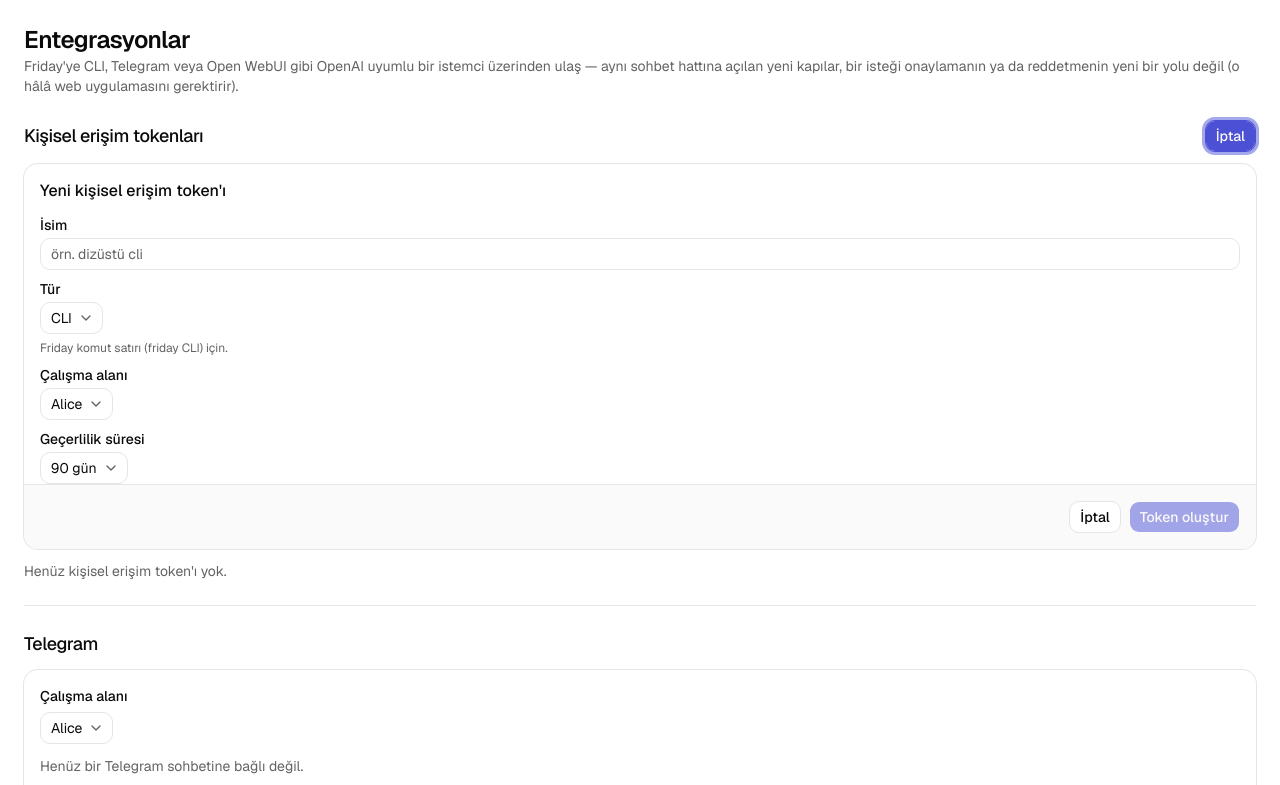
Scenario: IntegrationsView › sends the chosen expiry with the mint request
Earlier steps of the test are not shown.
Type "short" into the field labelled "İsim" at (640, 254), box [40,238,1240,270]
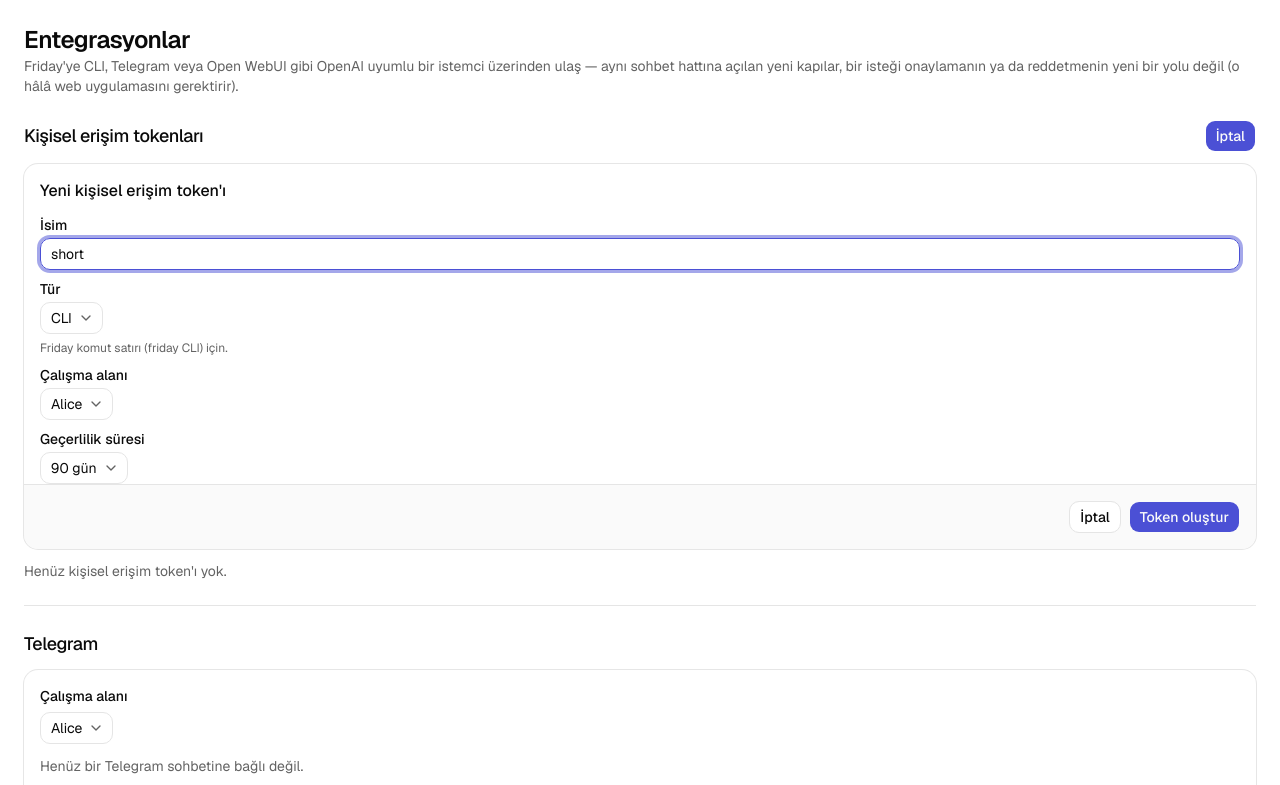
Click the dropdown named "Token çalışma alanı" at (77, 404), box [40,388,113,420]
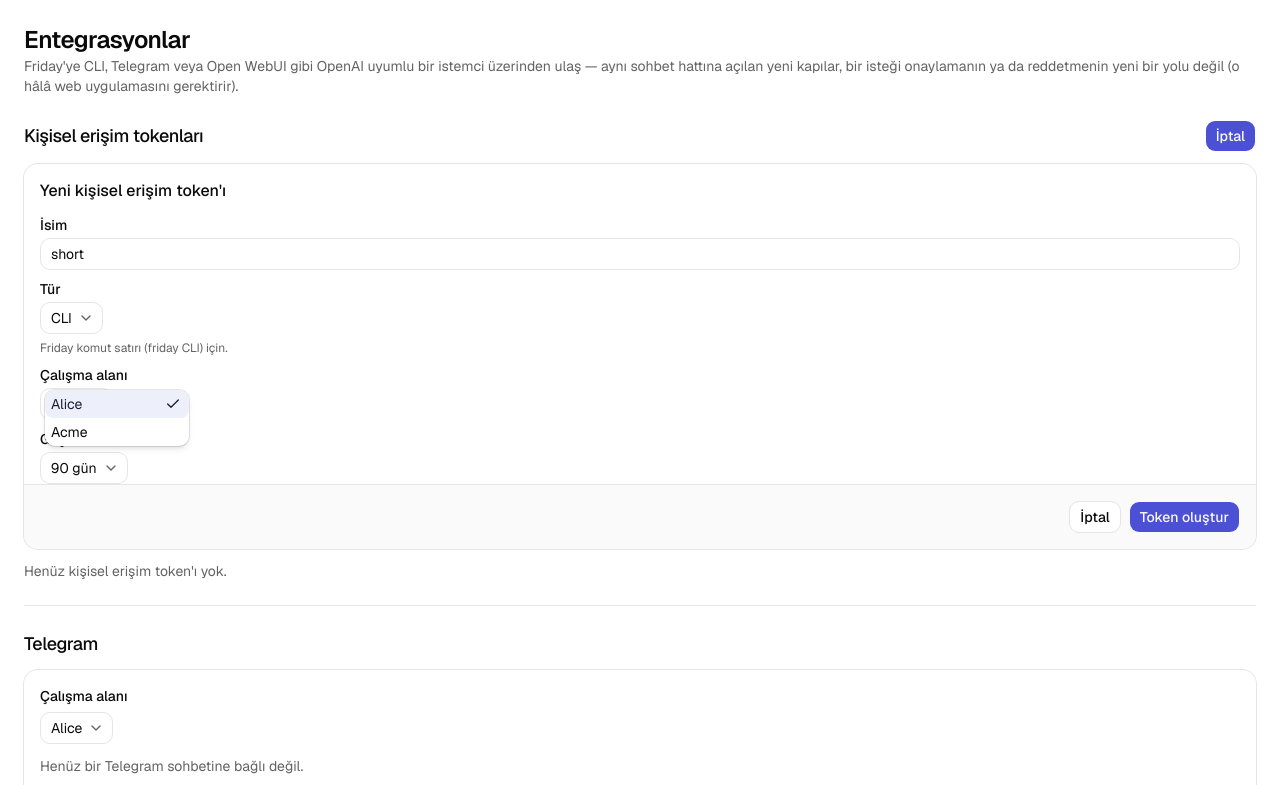
Click the option "Alice" at (117, 404), box [45,390,189,418]
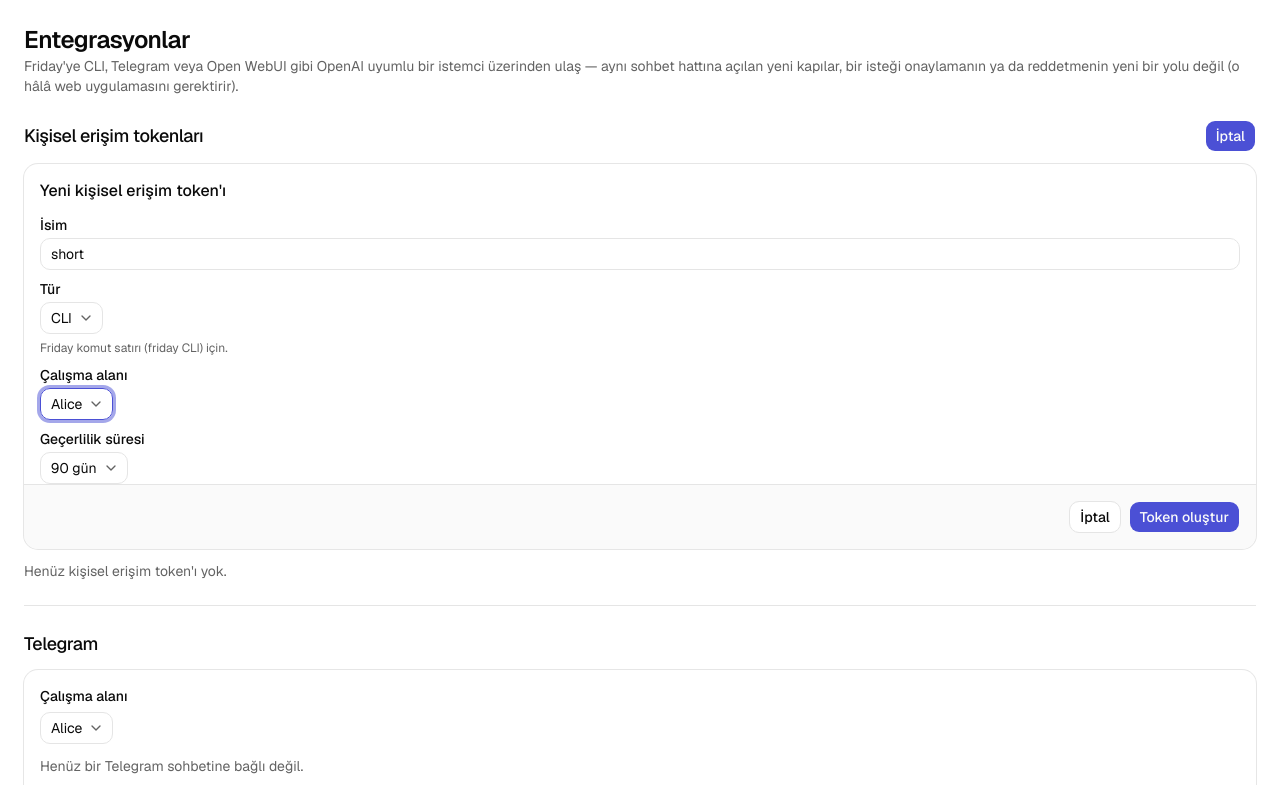
Click the dropdown named "Token geçerlilik süresi" at (84, 468), box [40,452,128,484]
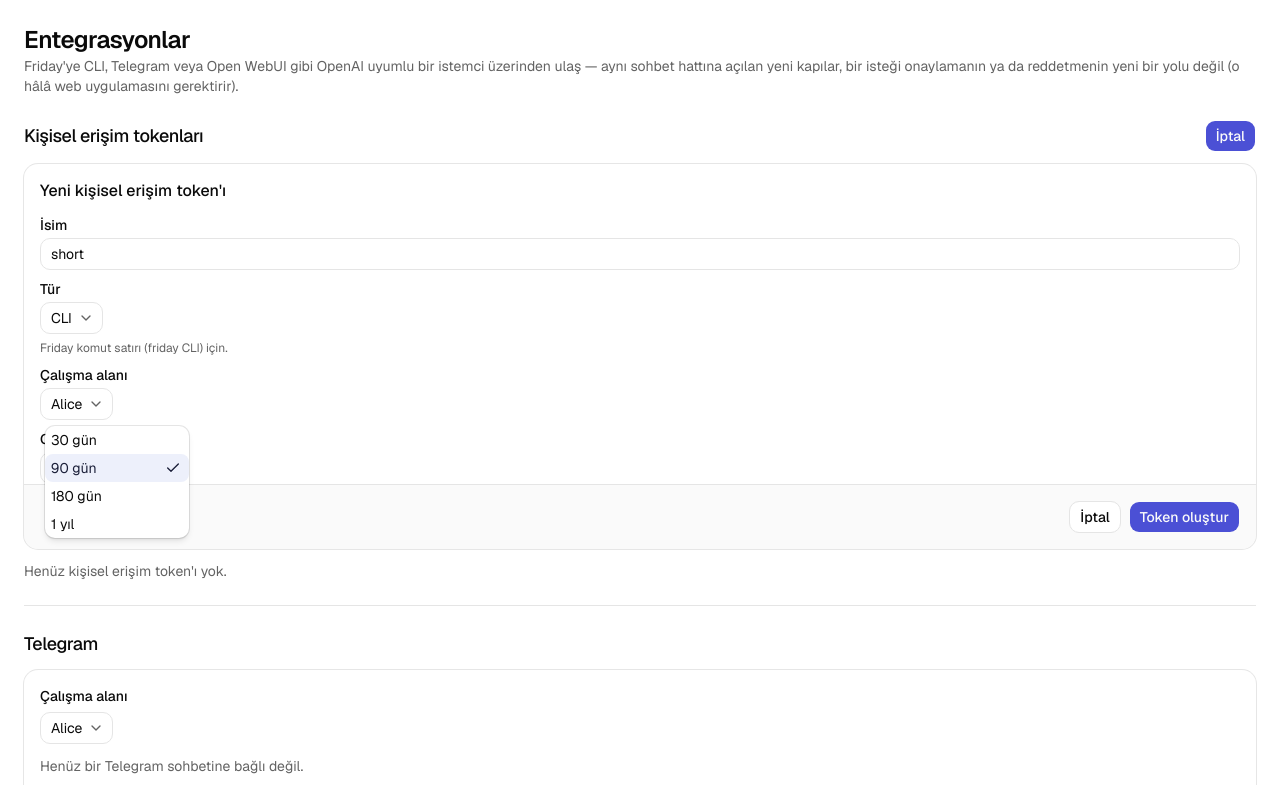
Click the option "30 gün" at (74, 440), box [51,431,97,449]
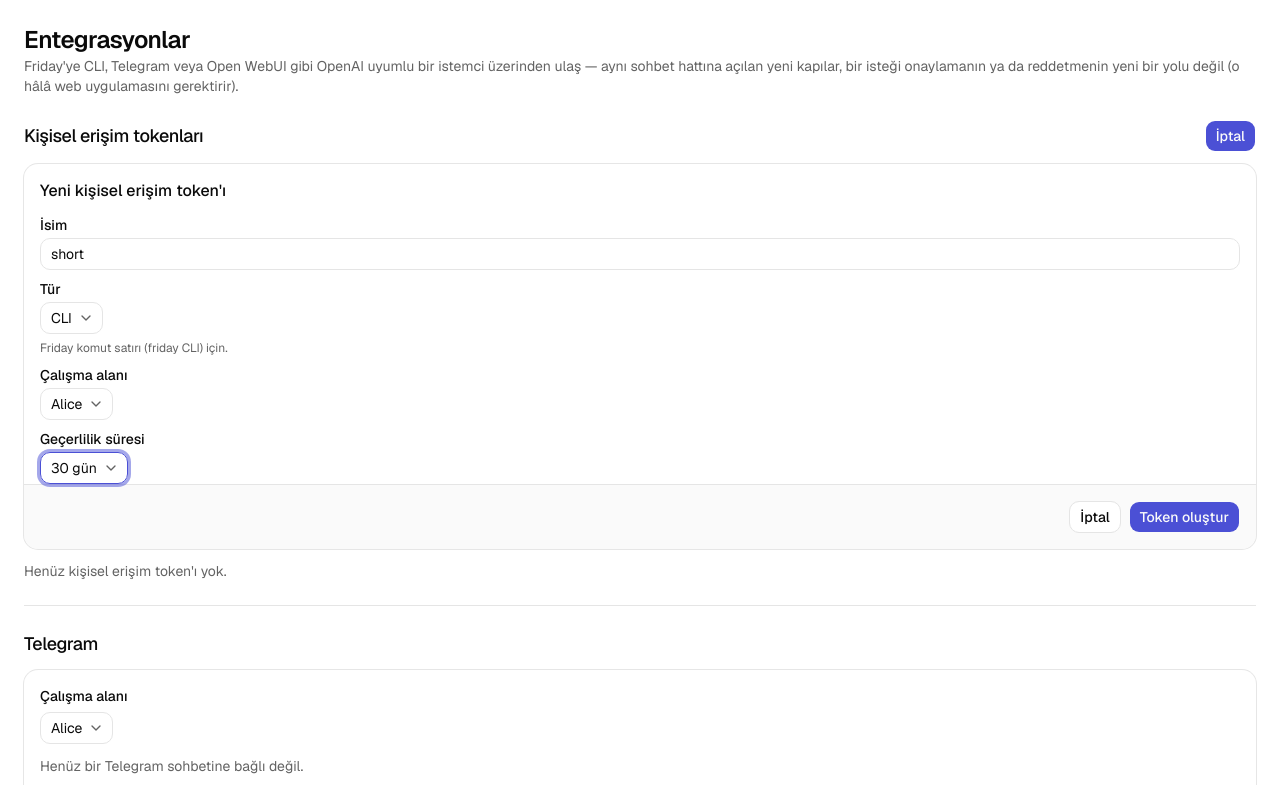
Click the button "Token oluştur" at (1184, 517), box [1129,501,1240,533]
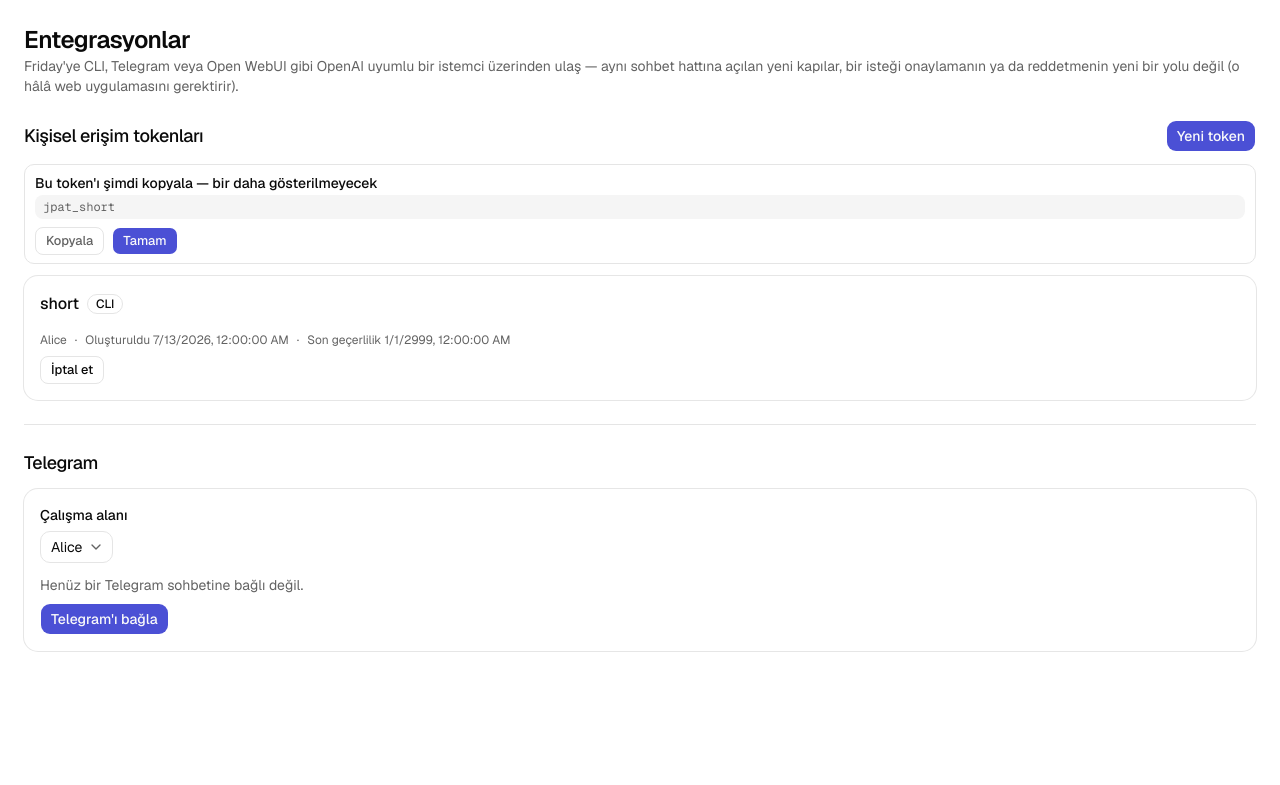
Check: the text "jpat_short" is shown, box [35,195,1245,219]
